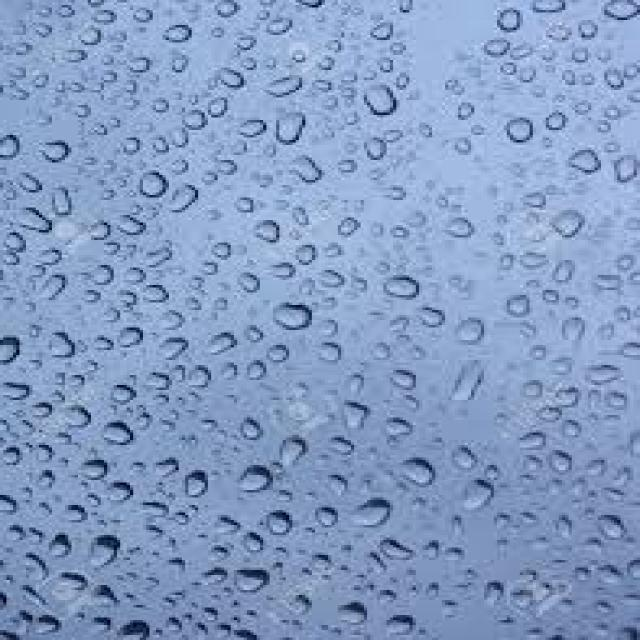raindrop: (71, 525, 138, 576), (278, 146, 332, 196), (228, 456, 283, 505), (453, 464, 506, 514), (266, 422, 321, 470), (391, 445, 447, 492), (371, 266, 432, 308), (344, 489, 394, 538), (356, 74, 399, 130), (262, 298, 322, 338), (258, 62, 312, 104), (266, 105, 314, 152), (487, 1, 540, 40), (590, 505, 632, 554), (6, 198, 57, 238), (560, 140, 606, 184), (136, 162, 180, 207), (98, 414, 146, 455), (495, 114, 545, 153), (550, 202, 592, 248), (494, 287, 538, 329), (210, 63, 260, 99), (34, 133, 79, 173), (232, 407, 272, 452), (380, 362, 423, 400), (228, 561, 274, 596), (52, 400, 94, 437), (334, 595, 372, 635), (158, 14, 200, 50), (50, 178, 80, 224), (0, 326, 28, 372), (0, 125, 31, 166), (110, 324, 150, 352), (110, 378, 141, 408)
